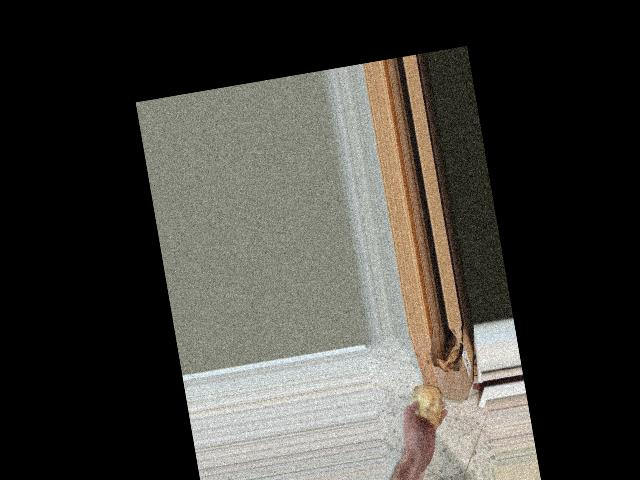onion: (405, 379, 447, 433)
